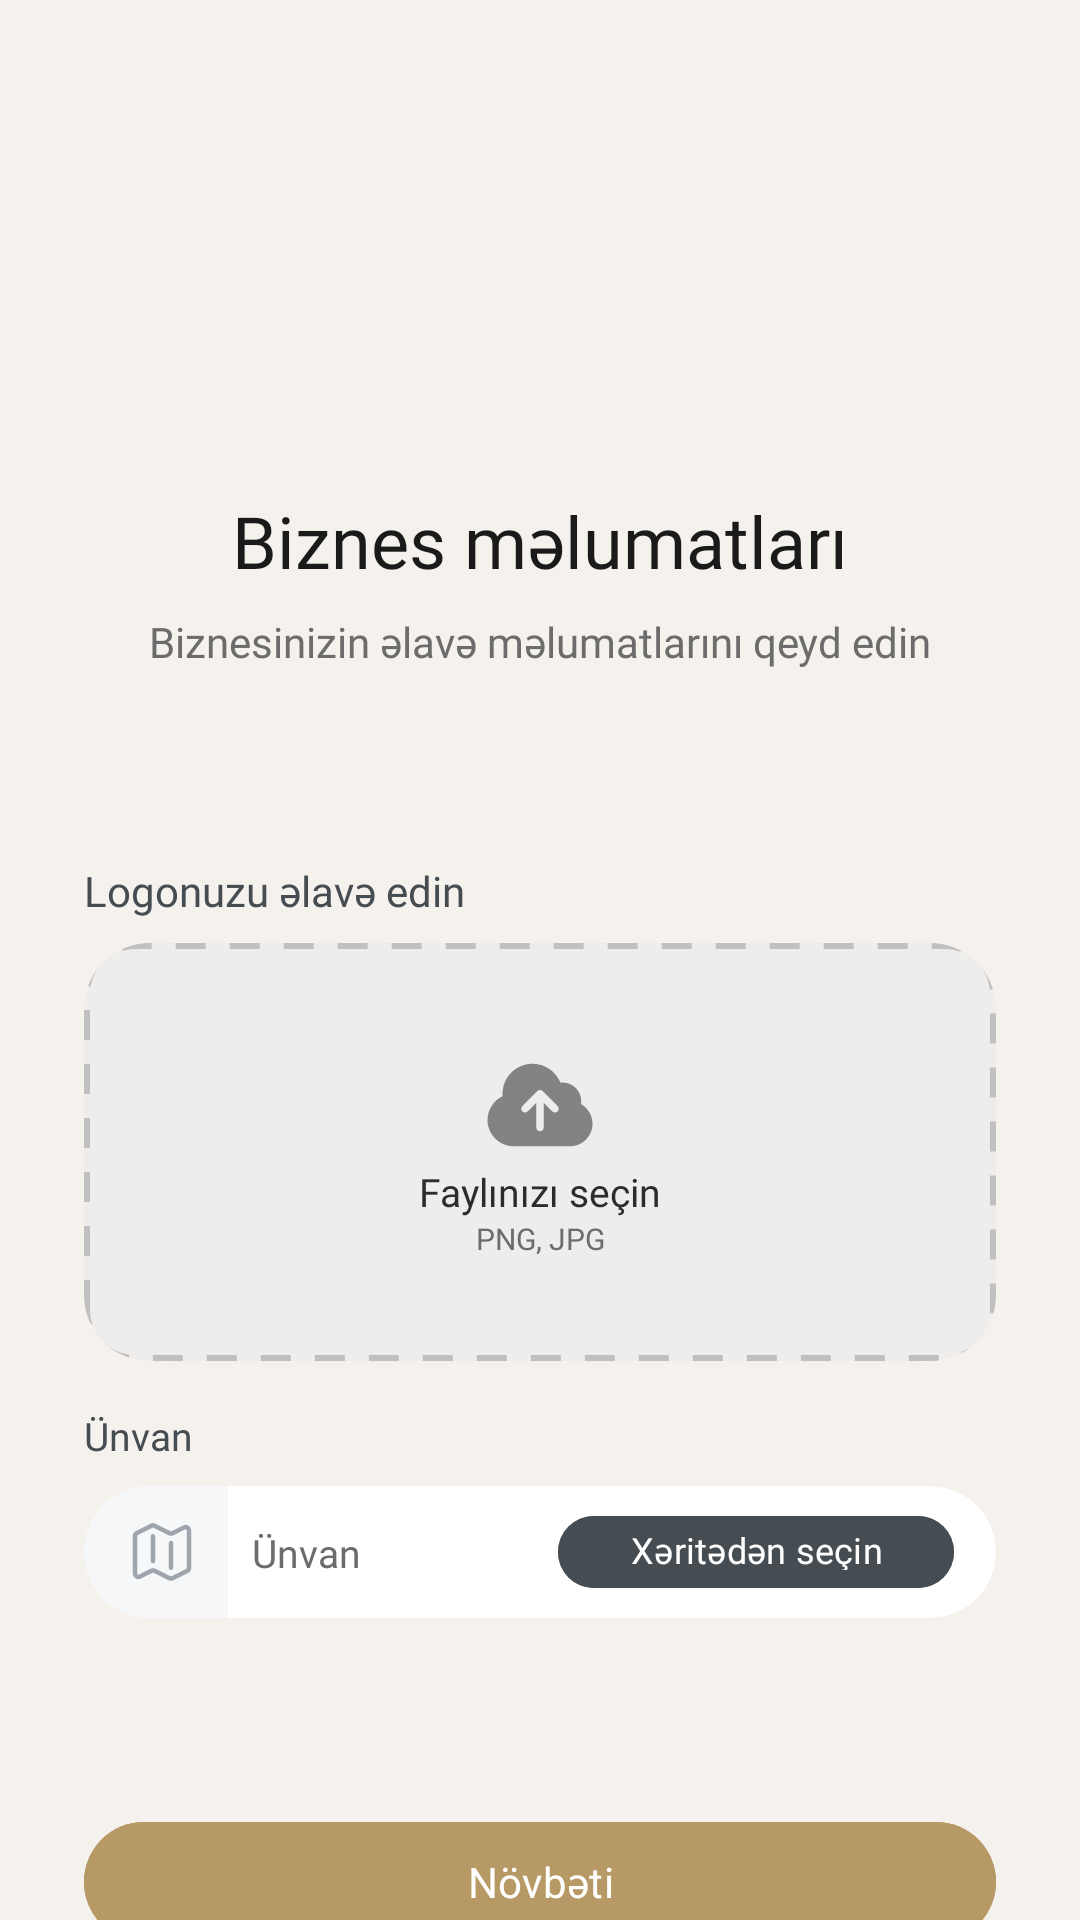

Named icons in this screenshot (1080w x 1920h) and their centers, (x,y):
map editicon: (156,1552)
